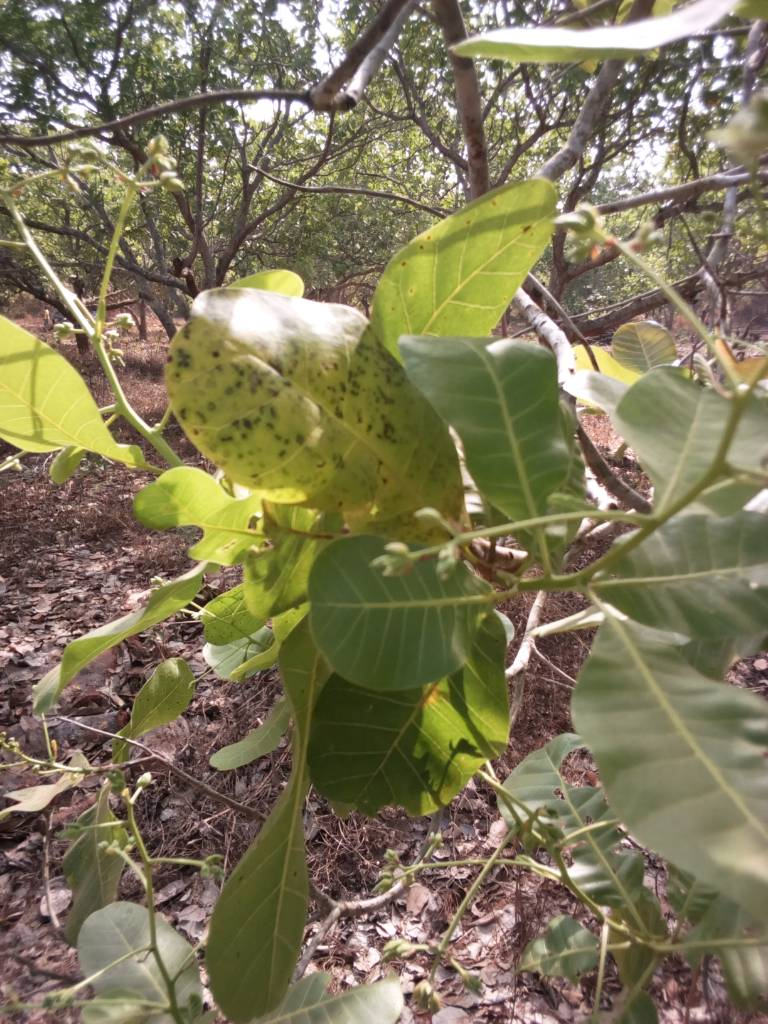Anthracnose: (163, 282, 454, 533)
